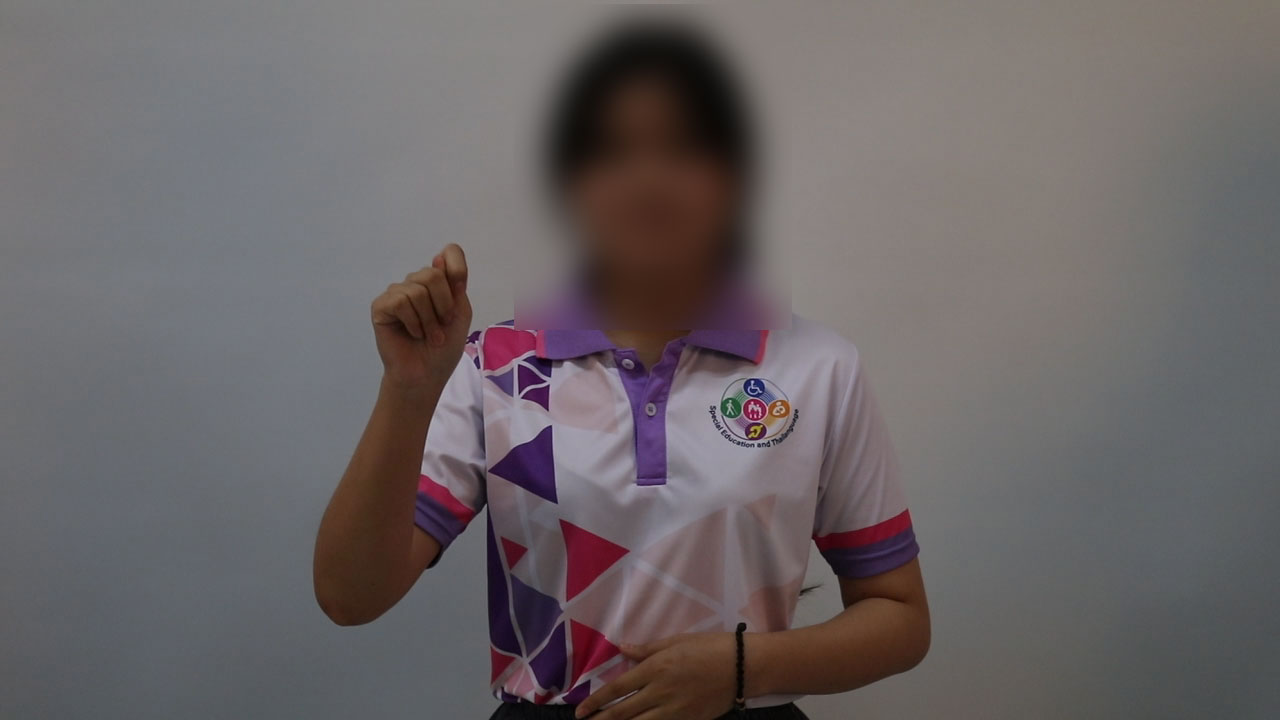tor: (350, 220, 498, 417)
